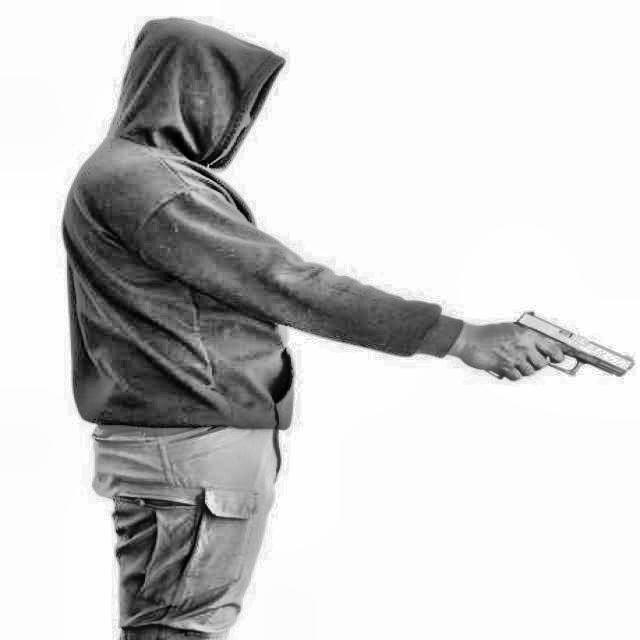pistol: (477, 288, 633, 388)
robbery: (59, 6, 639, 639)
